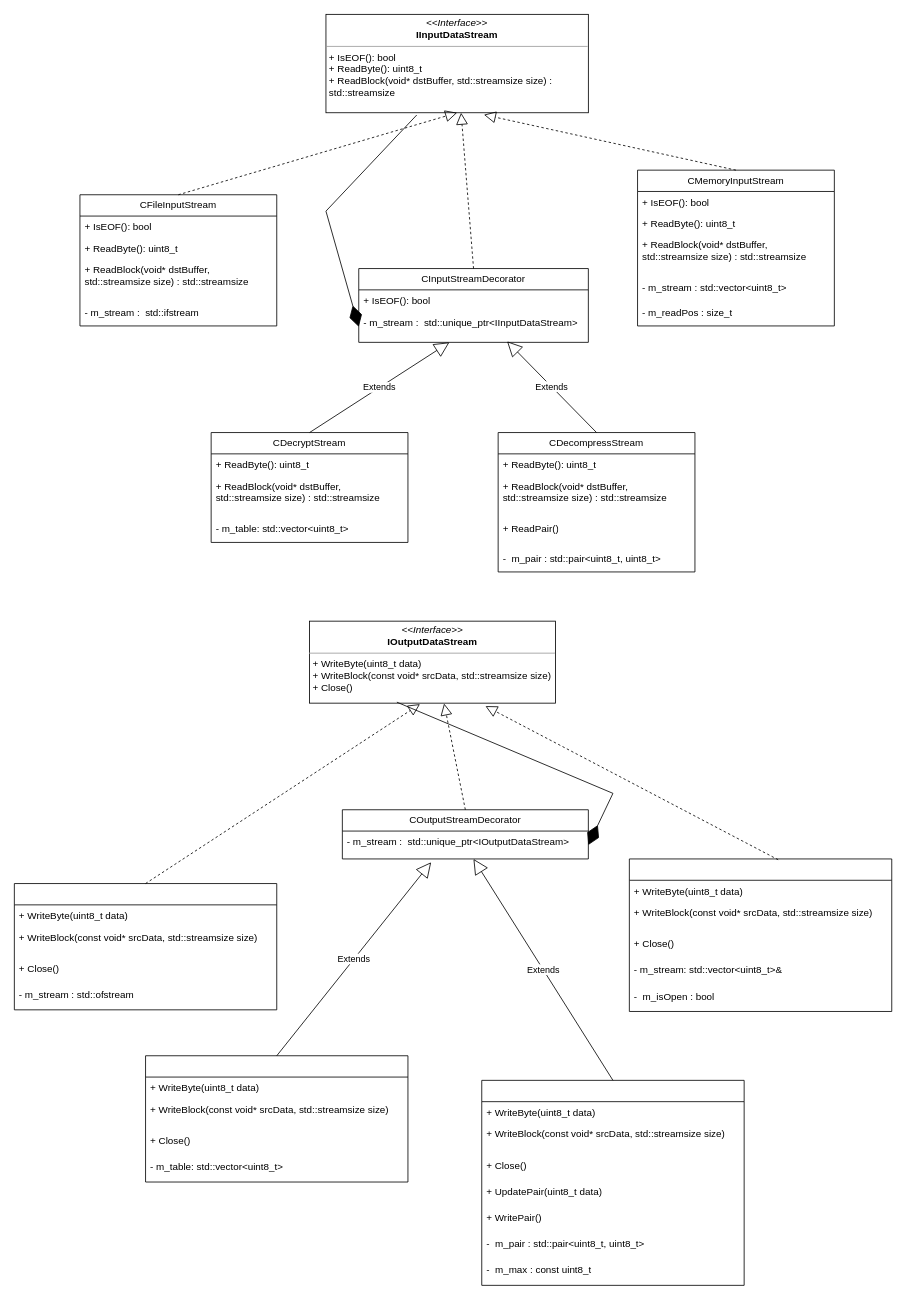
This 906x1302 diagram has some shape labels left out. Here are the shapes that lost their labels. From the top down, the box of each, then its label:
(14, 883, 277, 1010): CFileOutputStream
(629, 858, 892, 1011): CMemoryOutputStream
(145, 1055, 408, 1182): CEncryptStream
(481, 1080, 744, 1285): CCompressStream
